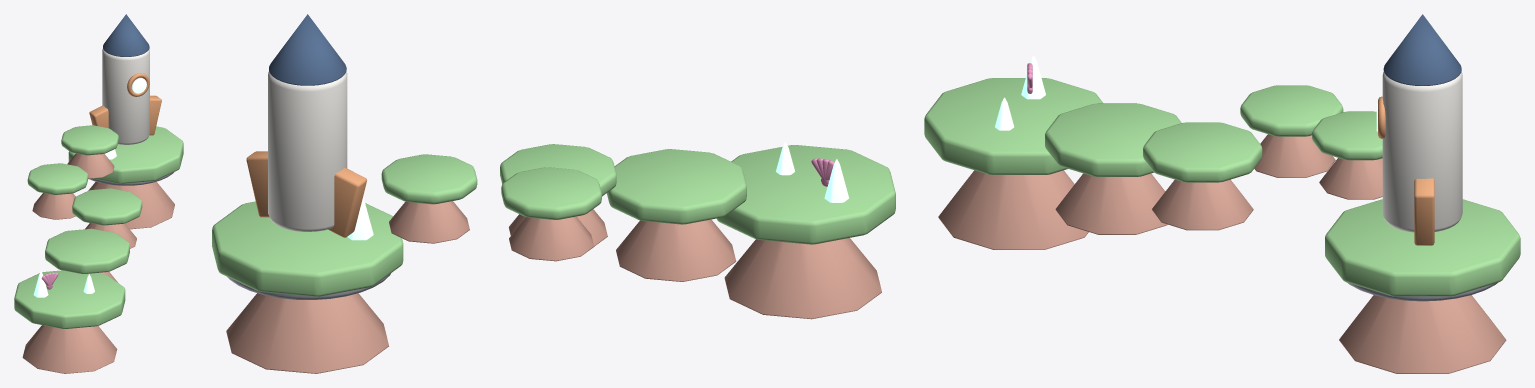
Rendered from launch_route.glb.
3 views of the same model, side by side, from view 1: azimuth 30°, elevation 25°; view 2: azimuth 150°, elevation 25°; view 3: azimuth 270°, elevation 25° (orthographic). The views are drawn at different scales.
Visible parts, largest first — view 1: Route_Island_0_Top, Route_Island_0_Rock, Rocket_Body, Route_Island_1_Top, Route_Island_5_Top, Route_Island_2_Top, Route_Island_5_Rock, Route_Island_3_Top, Route_Island_4_Top, Rocket_Nose, Route_Island_3_Rock, Route_Island_4_Rock (+8 smaller); view 2: Route_Island_0_Top, Route_Island_5_Top, Rocket_Body, Route_Island_5_Rock, Route_Island_0_Rock, Route_Island_1_Top, Route_Island_1_Rock, Route_Island_3_Top, Route_Island_4_Top, Rocket_Nose, Route_Island_3_Rock, Route_Island_2_Top (+6 smaller); view 3: Route_Island_5_Top, Route_Island_0_Top, Rocket_Body, Route_Island_5_Rock, Route_Island_0_Rock, Route_Island_1_Top, Route_Island_2_Top, Route_Island_1_Rock, Route_Island_3_Top, Route_Island_2_Rock, Rocket_Nose, Route_Island_4_Top (+5 smaller).
Part boxes in pixels (box(x1,y1,x2,y2)): Route_Island_0_Top: box(14, 270, 125, 328); Route_Island_0_Rock: box(22, 325, 117, 373); Rocket_Body: box(102, 48, 149, 144); Route_Island_1_Top: box(45, 228, 129, 273); Route_Island_5_Top: box(68, 126, 183, 183); Route_Island_2_Top: box(72, 188, 142, 225); Route_Island_5_Rock: box(88, 181, 174, 229); Route_Island_3_Top: box(27, 163, 88, 194); Route_Island_4_Top: box(61, 125, 118, 155); Rocket_Nose: box(103, 14, 149, 56); Route_Island_3_Rock: box(32, 193, 75, 219); Route_Island_4_Rock: box(67, 153, 114, 178); Route_Island_0_Top: box(716, 145, 895, 244); Route_Island_5_Top: box(212, 201, 403, 296); Rocket_Body: box(268, 71, 347, 231); Route_Island_5_Rock: box(226, 293, 388, 373); Route_Island_0_Rock: box(724, 238, 881, 319); Route_Island_1_Top: box(606, 149, 746, 224); Route_Island_1_Rock: box(616, 219, 736, 281); Route_Island_3_Top: box(501, 167, 601, 219); Route_Island_4_Top: box(381, 154, 477, 204); Rocket_Nose: box(269, 14, 346, 85); Route_Island_3_Rock: box(509, 216, 594, 261); Route_Island_2_Top: box(500, 144, 616, 196); Route_Island_5_Top: box(1325, 199, 1520, 296); Route_Island_0_Top: box(924, 78, 1102, 174); Rocket_Body: box(1382, 71, 1462, 232); Route_Island_5_Rock: box(1339, 295, 1506, 373); Route_Island_0_Rock: box(938, 170, 1088, 249); Route_Island_1_Top: box(1045, 103, 1181, 176); Route_Island_2_Top: box(1143, 122, 1262, 182); Route_Island_1_Rock: box(1055, 173, 1167, 234); Route_Island_3_Top: box(1240, 85, 1343, 136); Route_Island_2_Rock: box(1152, 179, 1253, 230); Rocket_Nose: box(1383, 14, 1461, 85); Route_Island_4_Top: box(1312, 111, 1382, 160).
Size of the model in its own units: 14.48 by 11.06 by 16.39.
